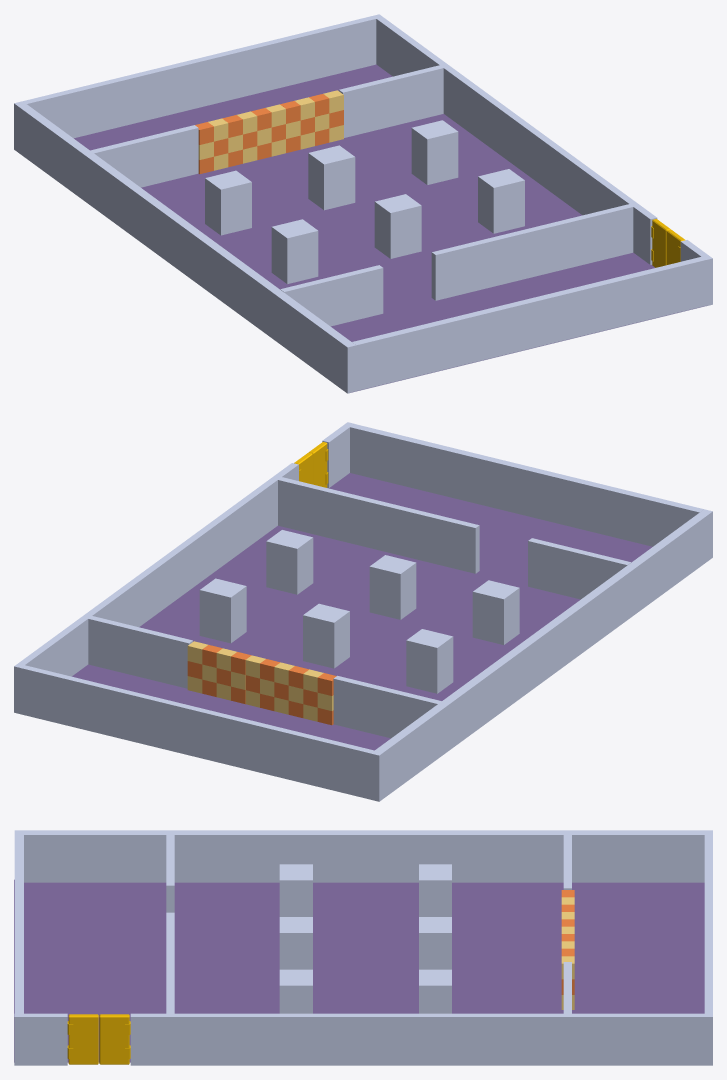
File: maps48.fbx
3 renders of one model, top to bottom at view 1: azimuth 30°, elevation 25°; view 2: azimuth 150°, elevation 25°; view 3: azimuth 270°, elevation 25°, orthographic. The views are drawn at different scales.
Parts seen in each view (by area): view 1: wall_01_08_geo, wall_01_07_geo, wall_01_05_geo, wall_01_09_geo7, wall_01_06_geo1, wall_01_09_geo20, wall_01_09_geo12, wall_01_09_geo19, wall_01_09_geo15, wall_01_09_geo21, wall_01_09_geo22, wall_01_09_geo24 (+5 smaller); view 2: wall_01_08_geo, wall_01_07_geo, wall_01_09_geo7, wall_01_05_geo, wall_01_06_geo1, wall_01_09_geo20, wall_01_09_geo12, wall_01_09_geo19, wall_01_09_geo15, wall_01_09_geo14, wall_01_09_geo22, wall_01_09_geo23 (+5 smaller); view 3: wall_01_08_geo, wall_01_07_geo, wall_01_06_geo1, wall_01_06_geo2, wall_01_09_geo24, wall_01_09_geo25, wall_01_05_geo, wall_01_09_geo14, wall_01_09_geo21, wall_01_09_geo7, polySurface165, polySurface161 (+6 smaller).
Boxes of the visible parts, box(x1,y1,x2,y2) form: wall_01_08_geo: box(74, 64, 704, 392); wall_01_07_geo: box(14, 101, 356, 393); wall_01_05_geo: box(352, 256, 705, 391); wall_01_09_geo7: box(23, 16, 376, 138); wall_01_06_geo1: box(373, 14, 657, 264); wall_01_09_geo20: box(431, 204, 633, 300); wall_01_09_geo12: box(339, 65, 443, 137); wall_01_09_geo19: box(90, 125, 198, 187); wall_01_09_geo15: box(280, 265, 383, 326); wall_01_09_geo21: box(308, 145, 355, 210); wall_01_09_geo22: box(411, 120, 458, 184); wall_01_09_geo24: box(374, 194, 421, 258); wall_01_08_geo: box(72, 473, 652, 750); wall_01_07_geo: box(370, 509, 712, 801); wall_01_09_geo7: box(20, 665, 374, 799); wall_01_05_geo: box(350, 424, 703, 546); wall_01_06_geo1: box(14, 463, 298, 714); wall_01_09_geo20: box(278, 477, 479, 573); wall_01_09_geo12: box(88, 615, 192, 688); wall_01_09_geo19: box(333, 675, 441, 738); wall_01_09_geo15: box(528, 538, 630, 599); wall_01_09_geo14: box(406, 629, 453, 693); wall_01_09_geo22: box(199, 578, 246, 643); wall_01_09_geo23: box(266, 530, 313, 594); wall_01_08_geo: box(14, 879, 704, 1062); wall_01_07_geo: box(14, 830, 712, 882); wall_01_06_geo1: box(130, 1013, 712, 1065); wall_01_06_geo2: box(14, 1013, 67, 1065); wall_01_09_geo24: box(279, 917, 312, 969); wall_01_09_geo25: box(279, 864, 312, 916); wall_01_05_geo: box(14, 835, 23, 1013); wall_01_09_geo14: box(419, 864, 451, 916); wall_01_09_geo21: box(419, 917, 451, 969); wall_01_09_geo7: box(704, 835, 712, 1013); polySurface165: box(99, 1014, 130, 1064); polySurface161: box(67, 1014, 98, 1064).
Bounding box in the file's own units: 73.34 × 8.98 × 116.
Materials: 3 (3 with a texture image).
